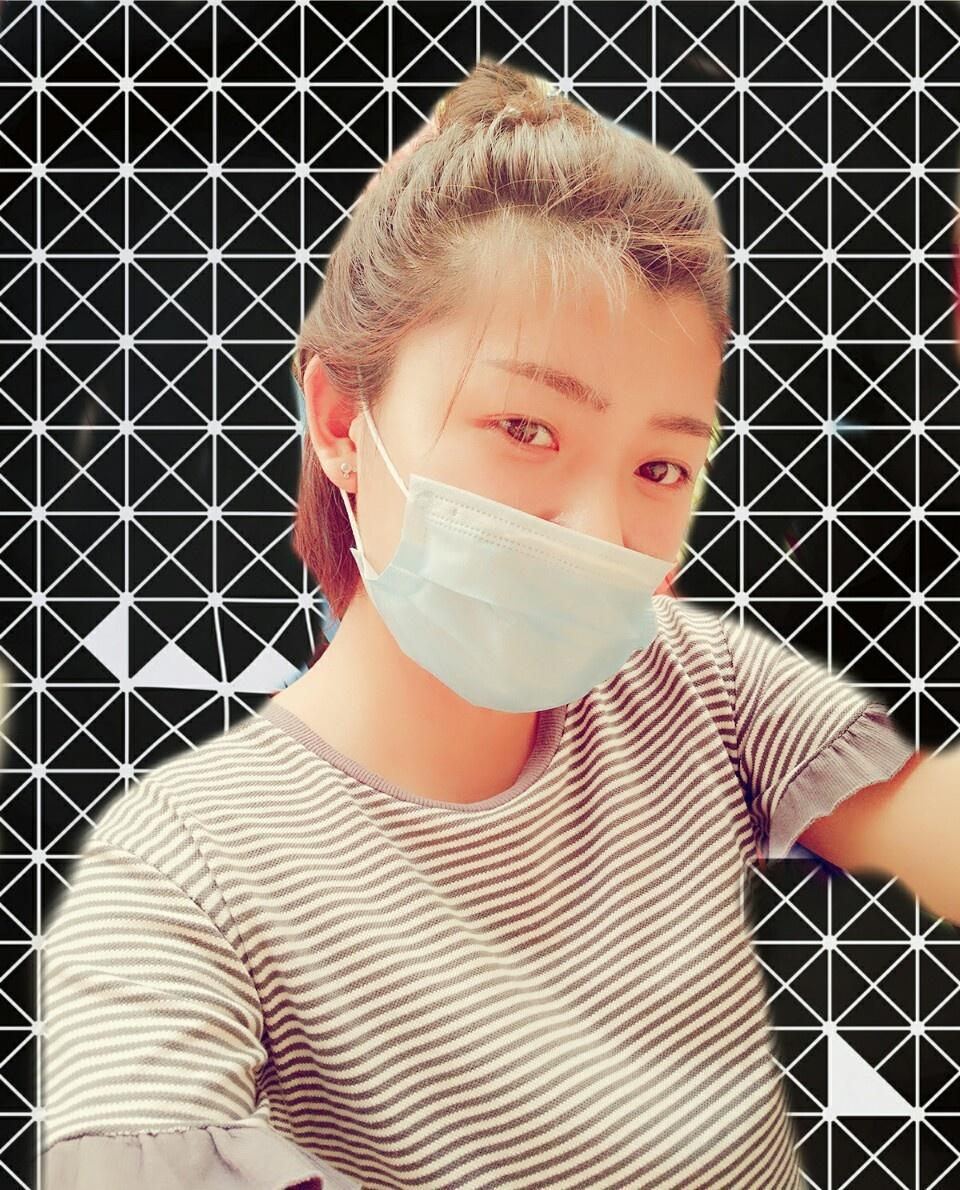WRONG: (357, 341, 714, 698)
